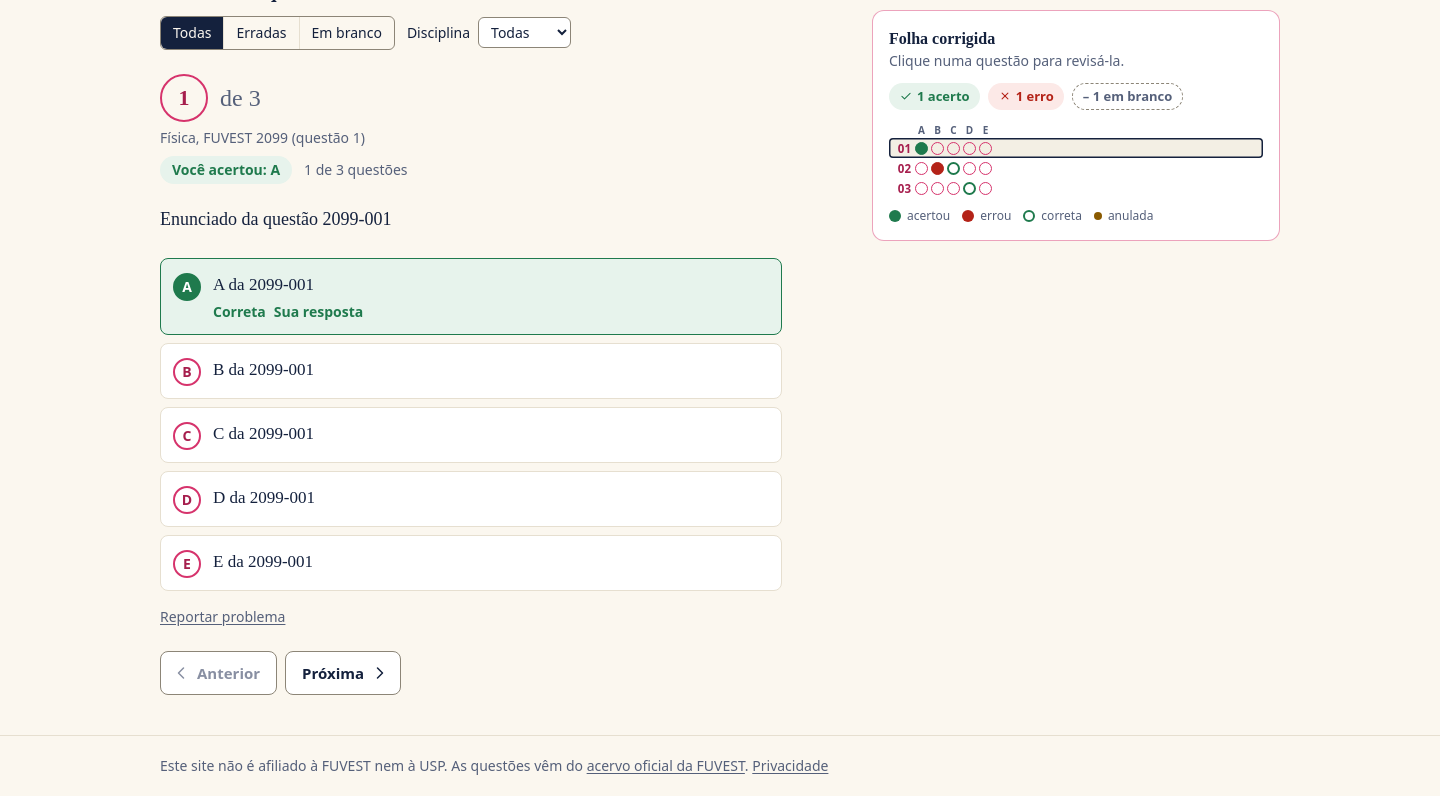
Resultado (RF-017 a RF-019) › questão corrigida cujo conteúdo saiu da base mantém o selo e não diz que ficou fora da nota
The image size is (1440, 796).
(page scrolled)
expect the text "Enunciado da questão 2099-001" is shown: met, box 160,209 -> 392,229
Click the button with aria-label "Próxima questão": (343, 673) 285,651 -> 401,695
(page scrolled)
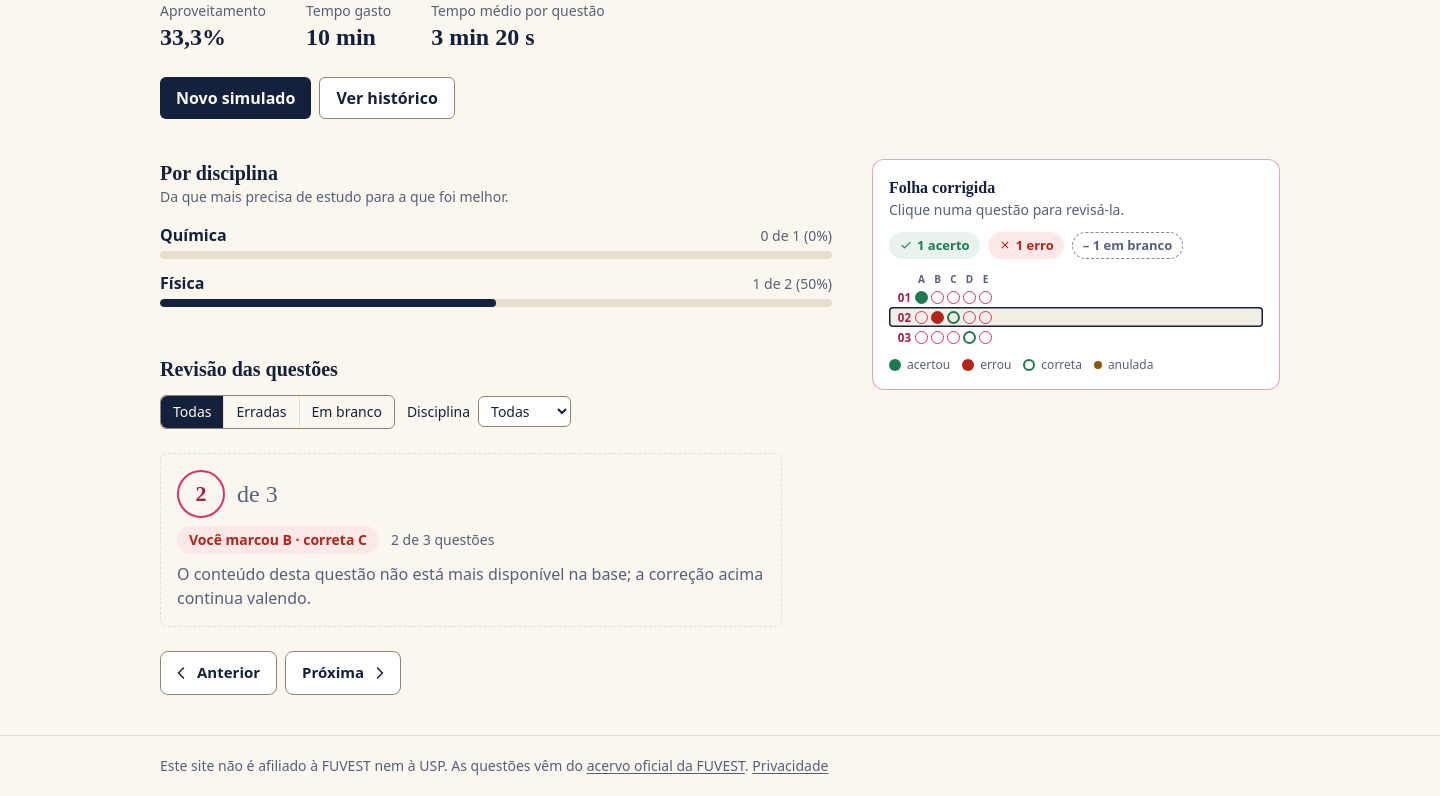
expect the element "Revisão das questões" does not show "não entrou na nota": met, box 160,355 -> 832,695
expect the element "Revisão das questões" shows "Você marcou B · correta C": met, box 189,530 -> 367,549
expect the element "Revisão das questões" shows "O conteúdo desta questão não está mais disponível na base": met, box 177,563 -> 763,609
